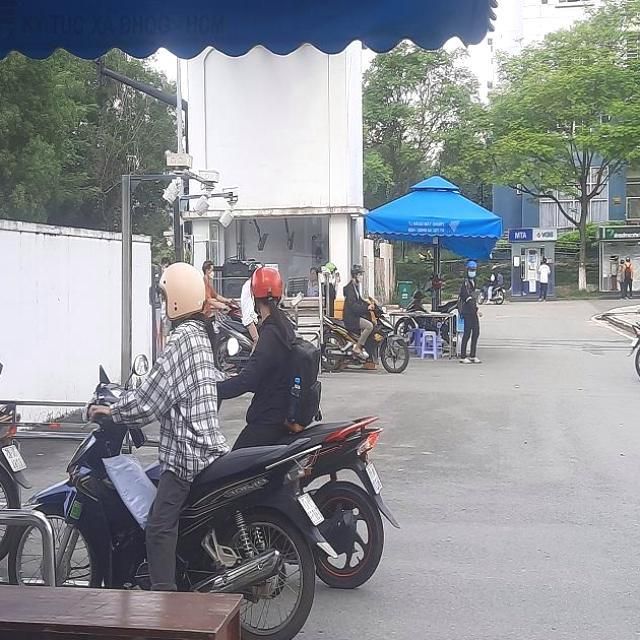Helmet: (158, 262, 206, 324), (247, 266, 283, 309)
